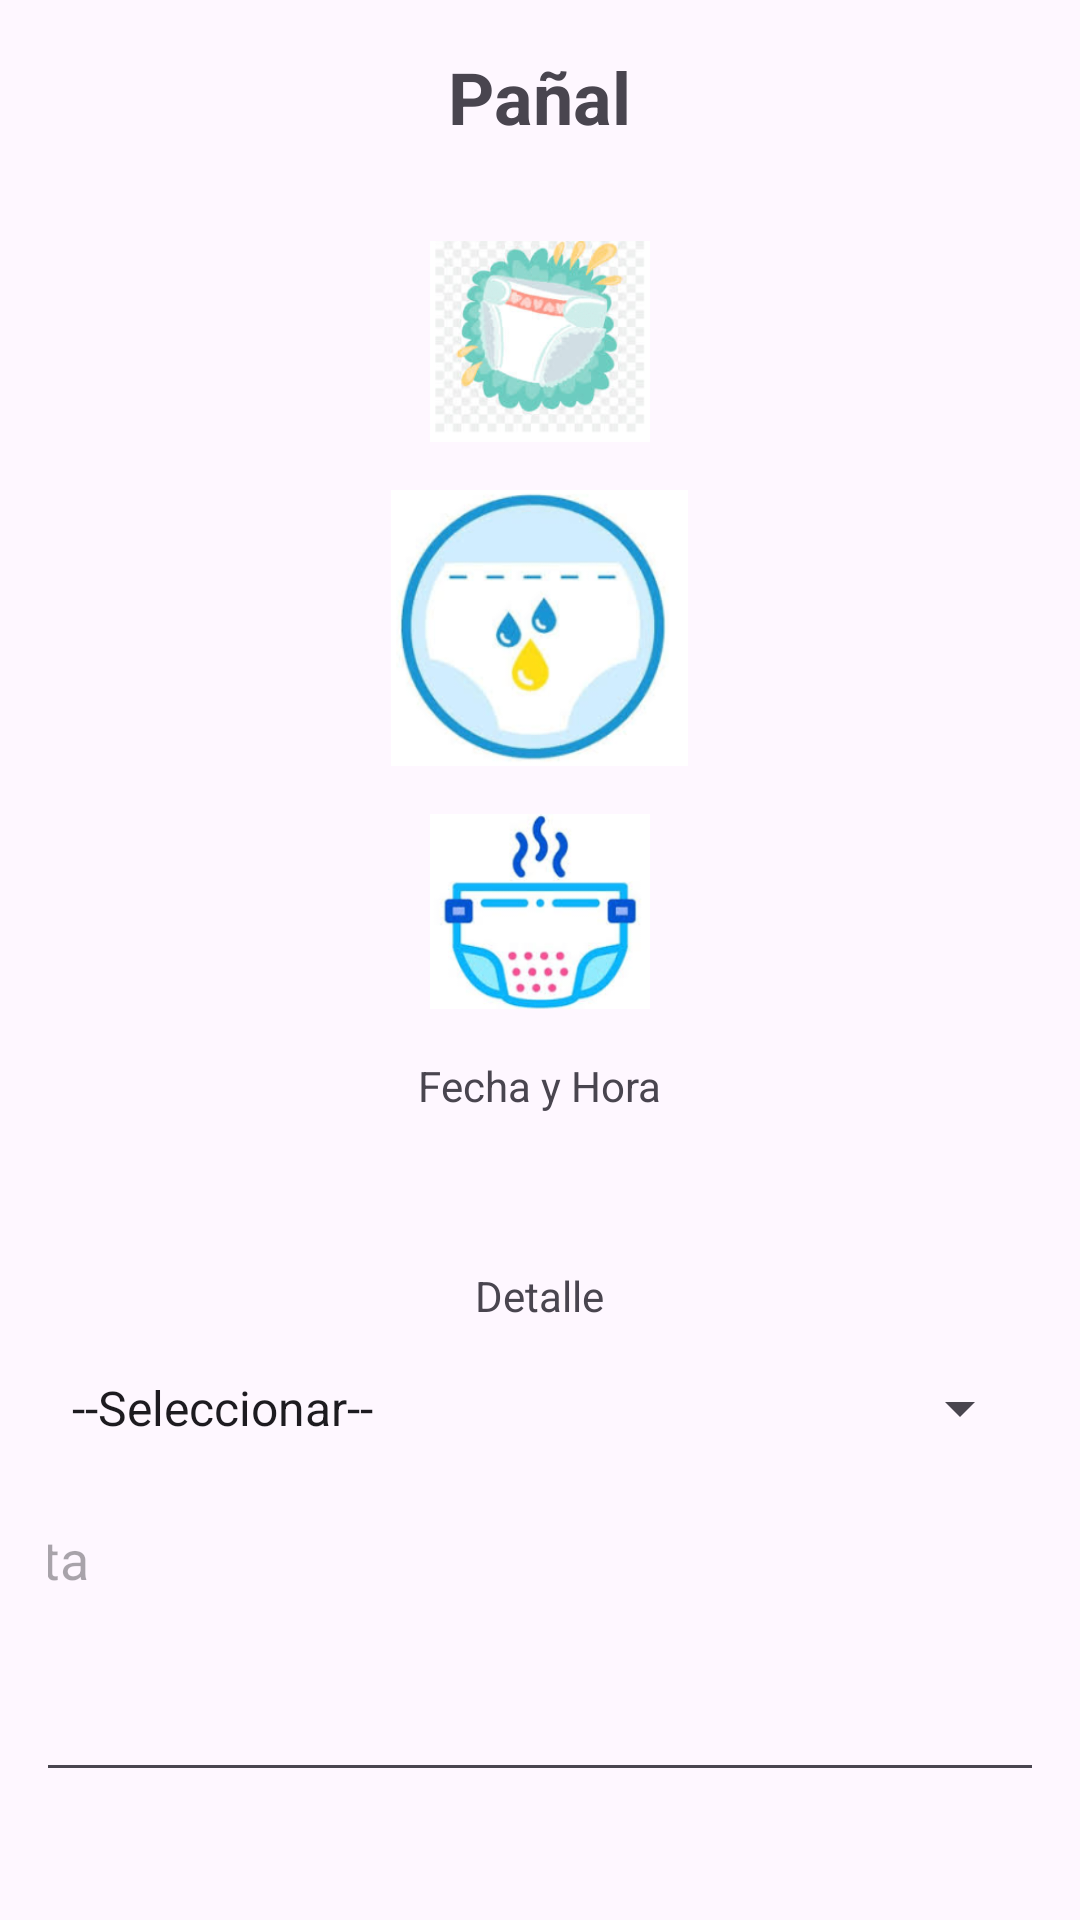

Named icons in this screenshot (1080×1920) and their centers, (x=x, y=y):
mojado: (x=533, y=627)
